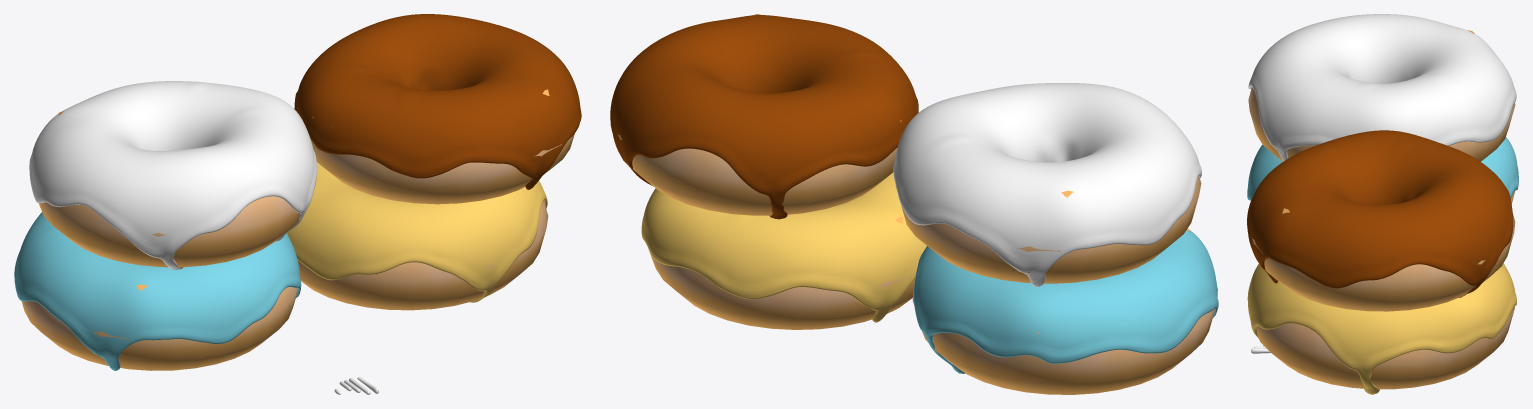
The model's file is donutworsequality.glb.
3 views of the same model, side by side, from view 1: azimuth 30°, elevation 25°; view 2: azimuth 150°, elevation 25°; view 3: azimuth 270°, elevation 25° (orthographic). The views are drawn at different scales.
Visible parts, largest first — view 1: Icing.006, Icing.003, Icing.001, Icing, Donut.004, Donut, Donut.007, Donut.001; view 2: Icing.003, Icing.006, Icing.001, Icing, Donut.007, Donut.001, Donut, Donut.004; view 3: Icing.006, Icing.003, Icing, Donut, Donut.007, Icing.001, Donut.004.
Part boxes in pixels (x1,y1,x2,y2): Icing.006: (294,14,581,189); Icing.003: (29,81,316,269); Icing.001: (14,212,301,370); Icing: (287,162,547,302); Donut.004: (39,111,299,267); Donut: (298,201,548,310); Donut.007: (311,89,574,204); Donut.001: (21,284,297,370); Icing.003: (893,83,1201,287); Icing.006: (610,15,918,219); Icing.001: (913,230,1218,373); Icing: (641,172,926,322); Donut.007: (618,14,901,215); Donut.001: (912,228,1217,394); Donut: (649,216,915,329); Donut.004: (895,176,1201,283); Icing.006: (1247,130,1513,297); Icing.003: (1248,14,1516,161); Icing: (1247,263,1516,394); Donut: (1249,306,1514,389); Donut.007: (1252,208,1515,311); Icing.001: (1247,137,1518,200); Donut.004: (1248,30,1515,161).
Size of the model in its own units: 0.274 by 0.1289 by 0.13.
Materials: 6 (1 with a texture image).
